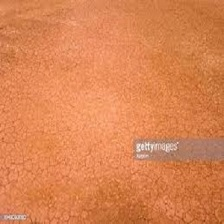sandy_soil: (10, 19, 209, 208)
